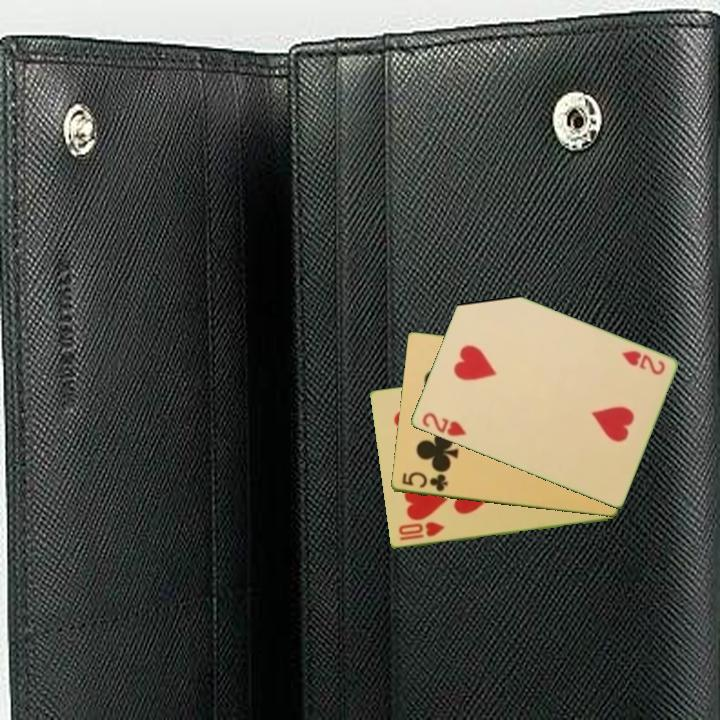10h: (395, 519, 447, 544)
2h: (418, 409, 469, 440), (618, 347, 668, 378)
5c: (398, 469, 450, 495)
